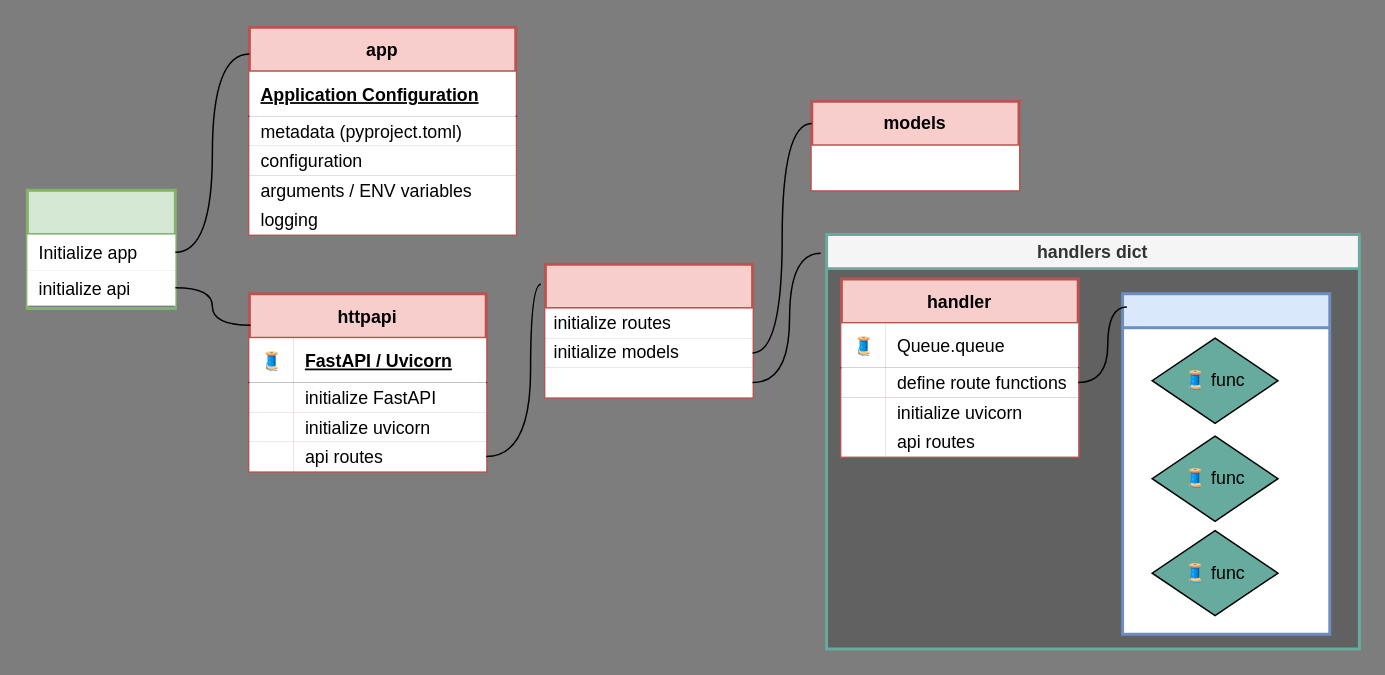
The diagram is 1385 pixels wide and 675 high, and some of its shapes have lost their labels. The box of each missing label's shape, as (x1, y1, x2, y2) in pixels:
__main__.py: (25, 188, 176, 309)
apiroutes: (543, 262, 753, 398)
data models: (811, 145, 1018, 189)
handler functions: (1120, 292, 1331, 635)
initialize handlers: (545, 367, 752, 397)
